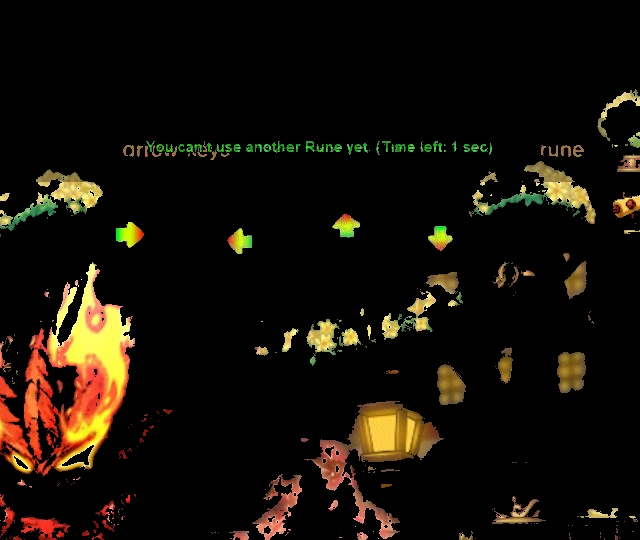down: (421, 220, 456, 260)
left: (220, 223, 254, 262)
right: (107, 216, 153, 255)
up: (329, 208, 363, 241)
